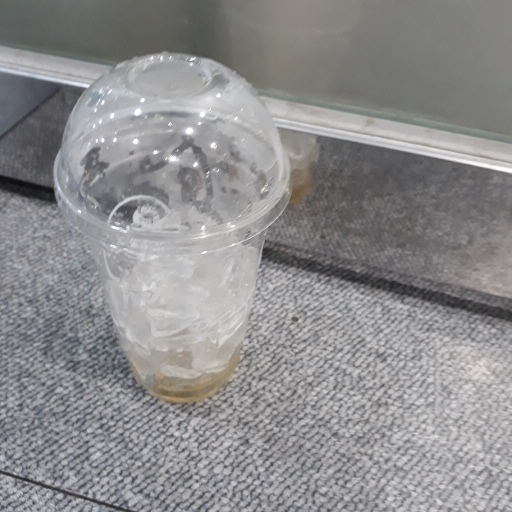Plastic_2: (56, 53, 300, 405)
